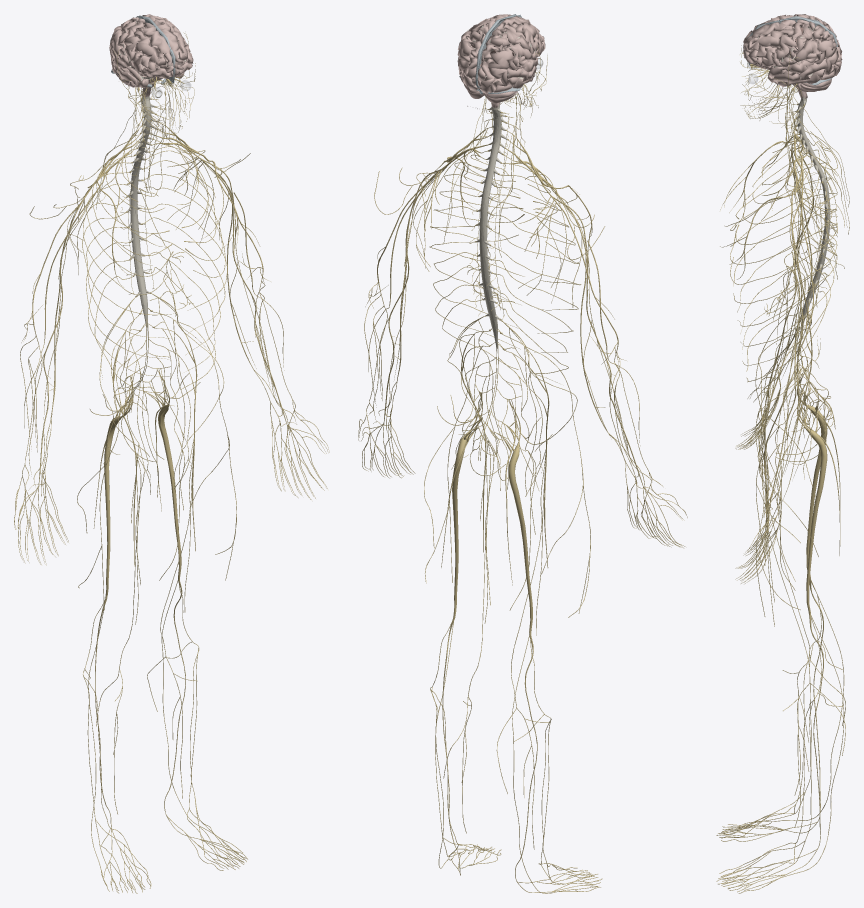
The model's file is adult_male.nervous.LOD2.glb.
3 renders of one model, left to right at view 1: azimuth 30°, elevation 25°; view 2: azimuth 150°, elevation 25°; view 3: azimuth 270°, elevation 25°, orthographic. The views are drawn at different scales.
Parts seen in each view (by area): view 1: ADULT.MALE.NERVOUS.SPINAL_DURA, ADULT.MALE.NERVOUS.INTERCOSTAL_NERVES.R, ADULT.MALE.NERVOUS.INTERCOSTAL_NERVES.L, ADULT.MALE.NERVOUS.SCIATIC_NERVE.R, ADULT.MALE.NERVOUS.SCIATIC_NERVE.L; view 2: ADULT.MALE.NERVOUS.SPINAL_DURA, ADULT.MALE.NERVOUS.INTERCOSTAL_NERVES.L, ADULT.MALE.NERVOUS.INTERCOSTAL_NERVES.R, ADULT.MALE.NERVOUS.SCIATIC_NERVE.R, ADULT.MALE.NERVOUS.SCIATIC_NERVE.L, ADULT.MALE.NERVOUS.SAPHENOUS_NERVE.R; view 3: ADULT.MALE.NERVOUS.INTERCOSTAL_NERVES.L, ADULT.MALE.NERVOUS.SPINAL_DURA, ADULT.MALE.NERVOUS.INTERCOSTAL_NERVES.R, ADULT.MALE.NERVOUS.SCIATIC_NERVE.L, ADULT.MALE.NERVOUS.SCIATIC_NERVE.R, ADULT.MALE.NERVOUS.MIDDLE_FRONTAL_GYRUS.L, ADULT.MALE.NERVOUS.SAPHENOUS_NERVE.L, ADULT.MALE.NERVOUS.LATERAL_FEMORAL_CUTANEOUS_NERVE.L, ADULT.MALE.NERVOUS.MEDIAN_NERVE.L, ADULT.MALE.NERVOUS.SAPHENOUS_NERVE.R, ADULT.MALE.NERVOUS.MIDDLE_TEMPORAL_GYRUS.L, ADULT.MALE.NERVOUS.VAGUS_NERVE_X.R (+18 smaller).
Boxes of the visible parts, x1,y1,x2,y2 form: ADULT.MALE.NERVOUS.SPINAL_DURA: [127, 95, 157, 333]; ADULT.MALE.NERVOUS.INTERCOSTAL_NERVES.R: [82, 149, 173, 393]; ADULT.MALE.NERVOUS.INTERCOSTAL_NERVES.L: [141, 143, 227, 389]; ADULT.MALE.NERVOUS.SCIATIC_NERVE.R: [104, 376, 132, 595]; ADULT.MALE.NERVOUS.SCIATIC_NERVE.L: [148, 369, 181, 577]; ADULT.MALE.NERVOUS.SPINAL_DURA: [476, 104, 507, 352]; ADULT.MALE.NERVOUS.INTERCOSTAL_NERVES.L: [429, 154, 524, 369]; ADULT.MALE.NERVOUS.INTERCOSTAL_NERVES.R: [491, 163, 581, 373]; ADULT.MALE.NERVOUS.SCIATIC_NERVE.R: [495, 399, 532, 632]; ADULT.MALE.NERVOUS.SCIATIC_NERVE.L: [452, 393, 481, 613]; ADULT.MALE.NERVOUS.SAPHENOUS_NERVE.R: [496, 452, 545, 849]; ADULT.MALE.NERVOUS.INTERCOSTAL_NERVES.L: [730, 153, 837, 382]; ADULT.MALE.NERVOUS.SPINAL_DURA: [796, 96, 830, 330]; ADULT.MALE.NERVOUS.INTERCOSTAL_NERVES.R: [730, 140, 837, 371]; ADULT.MALE.NERVOUS.SCIATIC_NERVE.L: [797, 384, 827, 612]; ADULT.MALE.NERVOUS.SCIATIC_NERVE.R: [797, 370, 827, 576]; ADULT.MALE.NERVOUS.MIDDLE_FRONTAL_GYRUS.L: [745, 29, 793, 62]; ADULT.MALE.NERVOUS.SAPHENOUS_NERVE.L: [761, 453, 845, 827]; ADULT.MALE.NERVOUS.LATERAL_FEMORAL_CUTANEOUS_NERVE.L: [755, 340, 818, 616]; ADULT.MALE.NERVOUS.MEDIAN_NERVE.L: [769, 198, 802, 508]; ADULT.MALE.NERVOUS.SAPHENOUS_NERVE.R: [762, 423, 845, 795]; ADULT.MALE.NERVOUS.MIDDLE_TEMPORAL_GYRUS.L: [773, 59, 828, 83]; ADULT.MALE.NERVOUS.VAGUS_NERVE_X.R: [764, 85, 812, 320].
Size of the model in its own units: 0.6673 by 1.69 by 0.2426.
